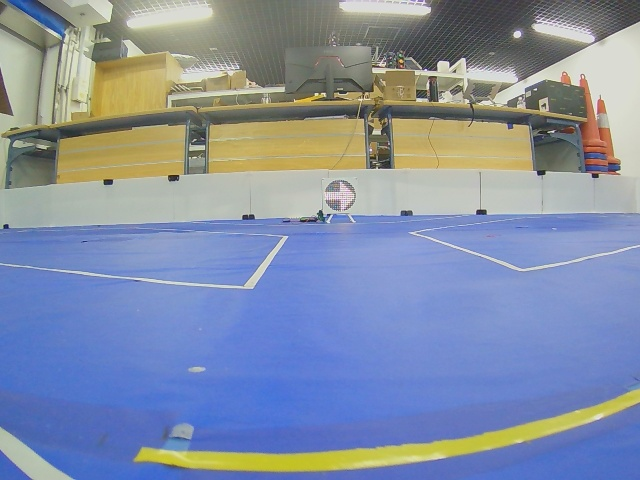right_yellow: (324, 179, 356, 212)
